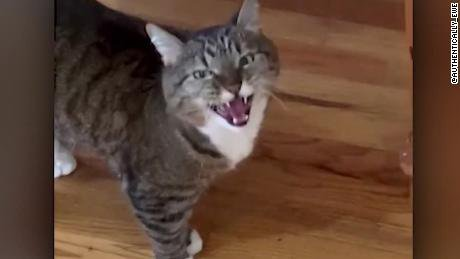cat: (96, 6, 295, 242)
